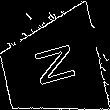N_W: (26, 42, 78, 93)
